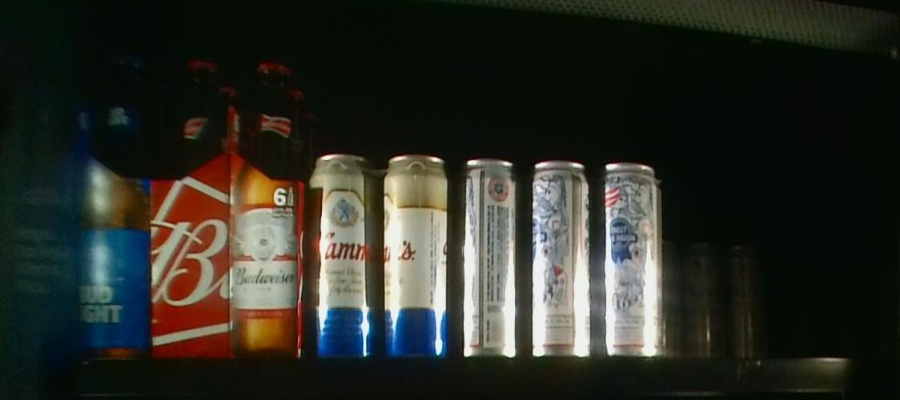bottle: (152, 52, 303, 357), (1, 54, 151, 360), (459, 153, 660, 364), (307, 152, 448, 357), (682, 240, 759, 364), (662, 240, 679, 361)
